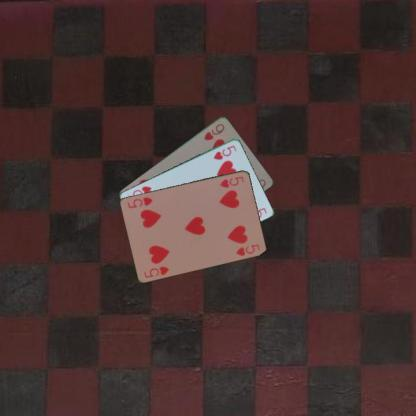5h: (211, 142, 237, 160), (217, 174, 245, 189), (142, 264, 170, 278)
9h: (201, 120, 227, 142)
